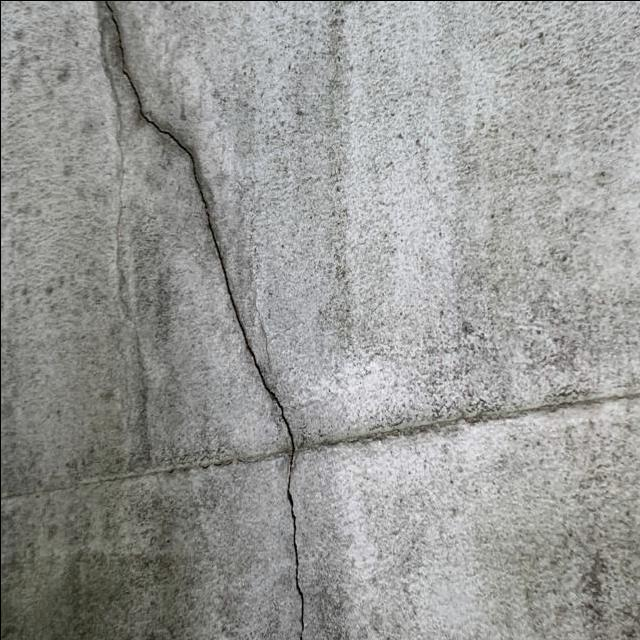SurfaceCrack: (76, 1, 324, 459), (272, 348, 640, 475)
